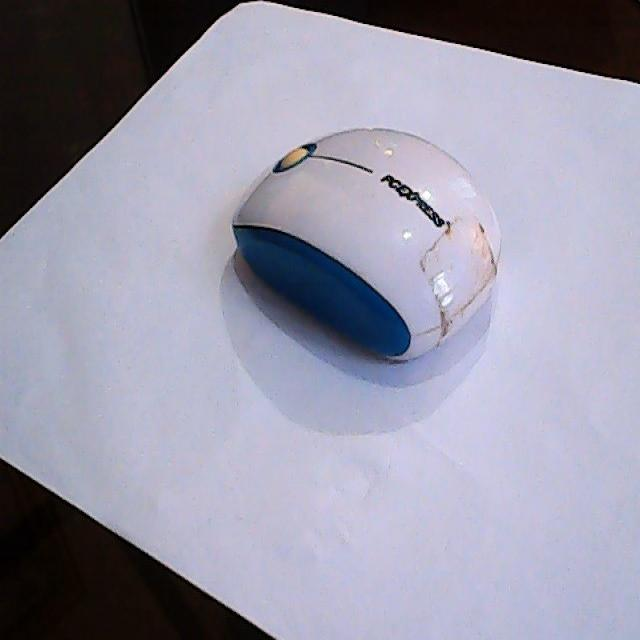mouse: (232, 121, 506, 369)
